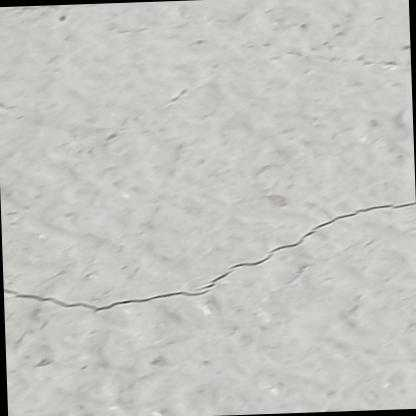crack: (3, 201, 416, 311)
